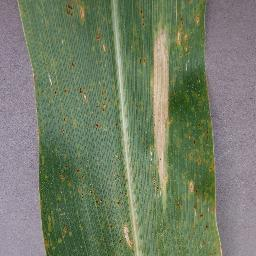Corn_Blight: (146, 22, 177, 215), (38, 154, 62, 251), (89, 24, 107, 136), (185, 177, 218, 235), (186, 121, 220, 173), (79, 189, 123, 210), (177, 0, 191, 63), (118, 220, 139, 255), (62, 0, 91, 25), (134, 5, 144, 68), (59, 165, 86, 180), (58, 113, 83, 127), (190, 11, 207, 30), (49, 89, 89, 97), (62, 223, 73, 244), (67, 60, 82, 70), (30, 69, 41, 82)
